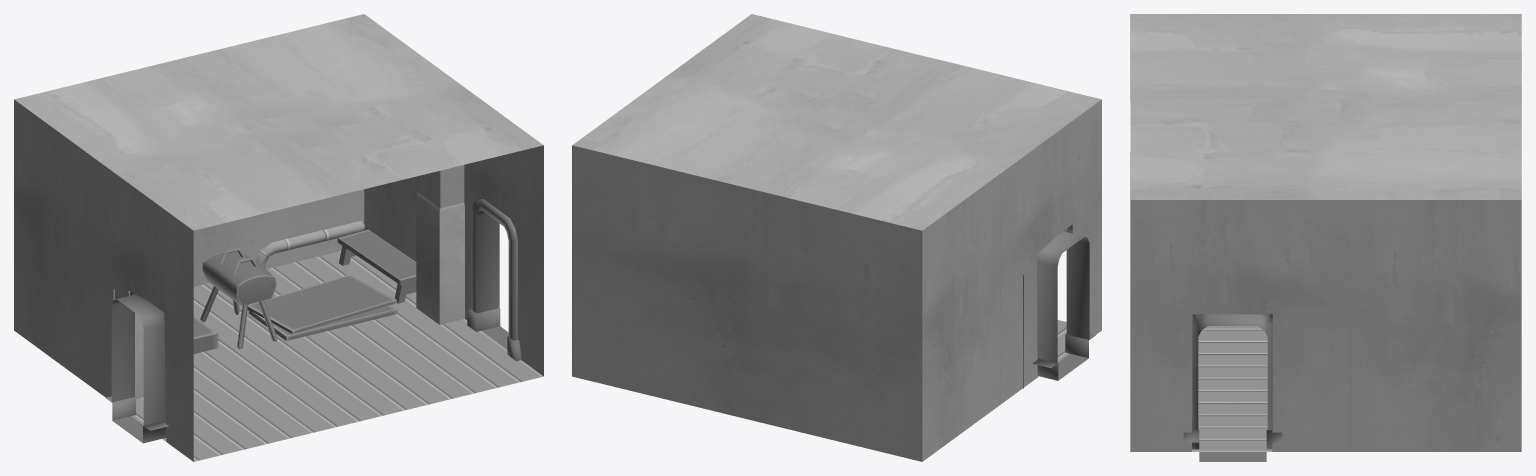
The model's file is MSH_Agility_room_L1_R1_optimized.fbx.
3 renders of one model, left to right at view 1: azimuth 30°, elevation 25°; view 2: azimuth 150°, elevation 25°; view 3: azimuth 270°, elevation 25°, orthographic. The views are drawn at different scales.
Parts seen in each view (by area): view 1: lightmap1, lightmap0, lightmap-1; view 2: lightmap1, lightmap-1; view 3: lightmap1, lightmap-1.
Part boxes in pixels (x1,y1,x2,y2): lightmap1: [14, 14, 543, 461]; lightmap0: [193, 220, 416, 354]; lightmap-1: [111, 210, 508, 443]; lightmap1: [572, 14, 1101, 461]; lightmap-1: [1037, 231, 1089, 380]; lightmap1: [1130, 14, 1521, 451]; lightmap-1: [1198, 314, 1267, 461].
Size of the model in its own units: 10.3 by 5.89 by 8.26.
